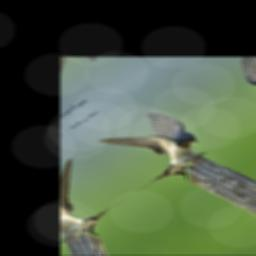Swallow: (88, 99, 219, 203)
